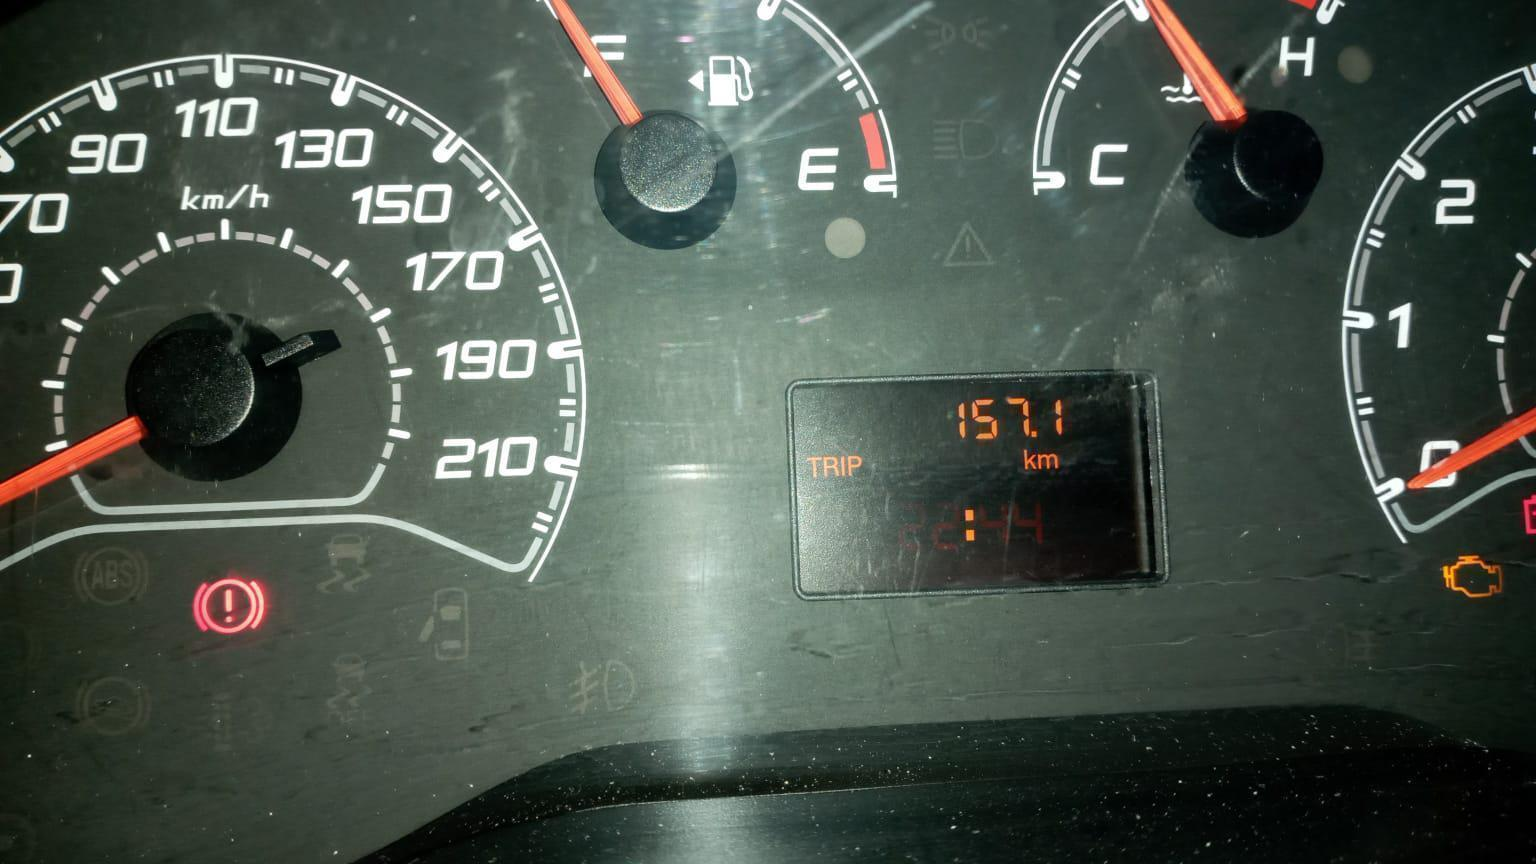,: (1030, 428, 1038, 439)
1: (1052, 398, 1064, 436), (956, 402, 968, 438)
5: (969, 398, 998, 440)
7: (1005, 396, 1030, 436)
X: (962, 507, 977, 543), (1037, 453, 1060, 471), (805, 456, 822, 479), (846, 454, 863, 477), (822, 456, 840, 477), (1023, 448, 1037, 471), (839, 455, 846, 477)
odometer: (784, 366, 1170, 604)
